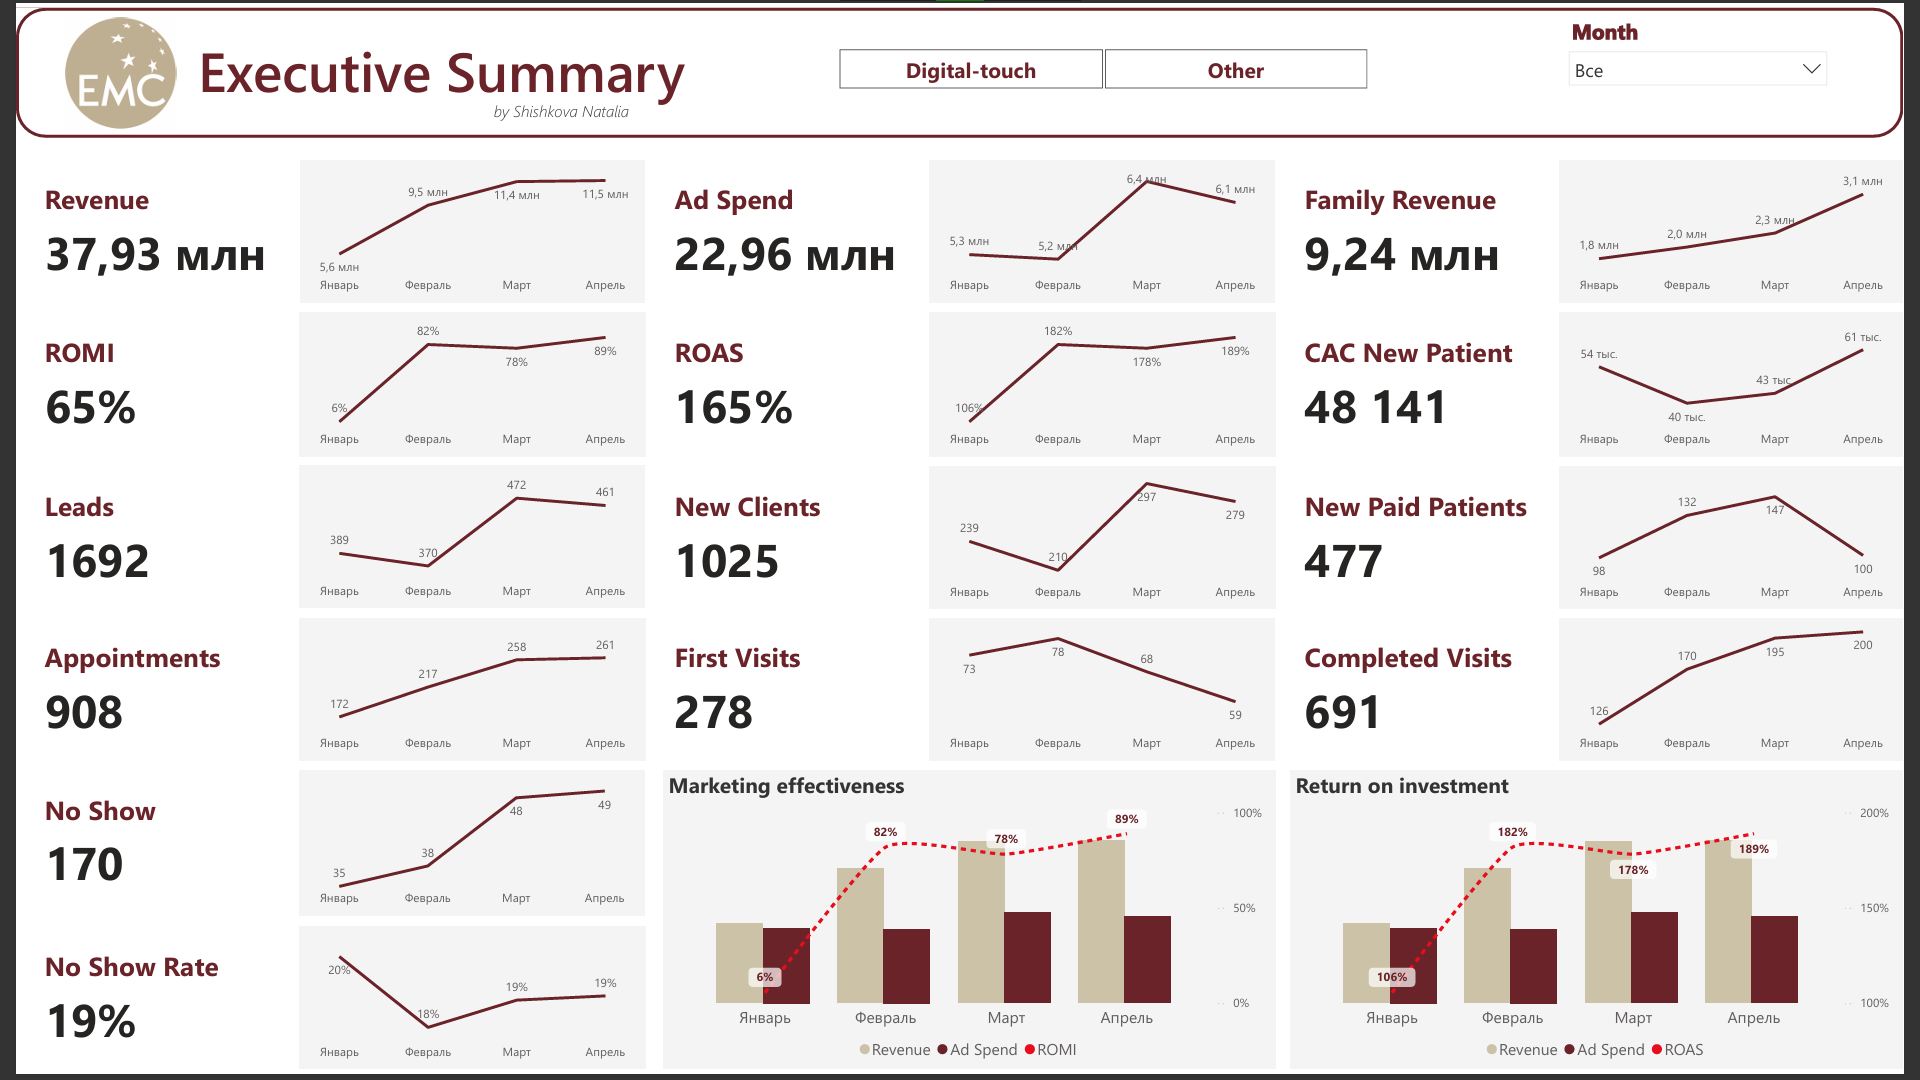

This screenshot's page, from the dashboard's own definition file:
{"tool":"powerbi","page":{"name":"EMC_1","canvas":[1920,1080],"ordinal":0},"visuals":[{"type":"shape","box":[0,0,1920.3,132],"z":0},{"type":"textbox","box":[149.5,4,566.9,122.5],"z":1000},{"type":"textbox","box":[480.7,88.9,160.2,33.7],"z":2000},{"type":"image","box":[49.8,6.7,113.1,118.5],"z":3000},{"type":"slicer","fields":{"Values":["marketing_catalog.traffic_segment"]},"box":[812,35,587.1,53.9],"z":4000},{"type":"slicer","title":"Date","fields":{"Values":["calendar.Месяц"]},"box":[1570.2,4,282.8,118.5],"z":5000},{"type":"lineChart","fields":{"Y":["leads.First Visits"],"Category":["calendar.Месяц"]},"box":[929.2,620.8,352.8,145.4],"z":6000},{"type":"lineChart","fields":{"Category":["calendar.Месяц"],"Y":["revenue.New Paid Patients"]},"box":[1570.2,467.3,350.1,145.4],"z":7000},{"type":"lineChart","fields":{"Category":["calendar.Месяц"],"Y":["revenue.CAC New Patient"]},"box":[1570.2,309.7,350.1,146.8],"z":8000},{"type":"cardVisual","fields":{"Data":["revenue.ROMI"]},"box":[0,309.7,288.2,146.8],"z":9000},{"type":"cardVisual","fields":{"Data":["revenue.ROAS"]},"box":[641,309.7,288.2,146.8],"z":10000},{"type":"lineClusteredColumnComboChart","title":"Return on investment","fields":{"Category":["calendar.Месяц"],"Y":["revenue.Revenue","ad_costs.Ad Spend"],"Y2":["revenue.ROAS"]},"box":[1296.8,775.7,623.5,304.3],"z":11000},{"type":"cardVisual","fields":{"Data":["leads.First Visits"]},"box":[641,620.8,288.2,145.4],"z":12000},{"type":"lineChart","fields":{"Y":["revenue.Revenue"],"Category":["calendar.Месяц"]},"box":[288.2,154.9,352.8,145.4],"z":13000},{"type":"cardVisual","fields":{"Data":["ad_costs.Ad Spend"]},"box":[641,154.9,288.2,145.4],"z":14000},{"type":"lineChart","fields":{"Category":["calendar.Месяц"],"Y":["ad_costs.Ad Spend"]},"box":[929.2,154.9,352.8,145.4],"z":15000},{"type":"cardVisual","fields":{"Data":["leads.Leads"]},"box":[0,467.3,288.2,145.4],"z":16000},{"type":"lineChart","fields":{"Y":["leads.Leads"],"Category":["calendar.Месяц"]},"box":[288.2,465.9,352.8,145.4],"z":17000},{"type":"cardVisual","fields":{"Data":["appointments.Appointments"]},"box":[0,620.8,288.2,145.4],"z":18000},{"type":"lineChart","fields":{"Y":["appointments.Appointments"],"Category":["calendar.Месяц"]},"box":[288.2,620.8,352.8,145.4],"z":19000},{"type":"cardVisual","fields":{"Data":["revenue.Revenue"]},"box":[0,154.9,288.2,145.4],"z":20000},{"type":"cardVisual","fields":{"Data":["revenue.New Paid Patients"]},"box":[1282,467.3,288.2,145.4],"z":21000},{"type":"cardVisual","fields":{"Data":["revenue.CAC New Patient"]},"box":[1282,309.7,288.2,146.8],"z":22000},{"type":"lineChart","fields":{"Category":["calendar.Месяц"],"Y":["revenue.ROMI"]},"box":[288.2,309.7,352.8,146.8],"z":23000},{"type":"lineChart","fields":{"Category":["calendar.Месяц"],"Y":["revenue.ROAS"]},"box":[929.2,309.7,352.8,146.8],"z":24000},{"type":"cardVisual","fields":{"Data":["revenue.Family Revenue"]},"box":[1282,154.9,288.2,145.4],"z":25000},{"type":"lineChart","fields":{"Category":["calendar.Месяц"],"Y":["revenue.Family Revenue"]},"box":[1570.2,154.9,350.1,145.4],"z":26000},{"type":"cardVisual","fields":{"Data":["appointments.No Show"]},"box":[0,775.7,288.2,145.4],"z":27000},{"type":"lineChart","fields":{"Y":["appointments.No Show"],"Category":["calendar.Месяц"]},"box":[288.2,775.7,352,148],"z":28000},{"type":"cardVisual","fields":{"Data":["appointments.Completed Visits"]},"box":[1282,620.8,288.2,145.4],"z":29000},{"type":"lineChart","fields":{"Category":["calendar.Месяц"],"Y":["appointments.Completed Visits"]},"box":[1570.2,620.8,350.1,145.4],"z":30000},{"type":"cardVisual","fields":{"Data":["appointments.No Show Rate"]},"box":[0,934.6,288.2,145.4],"z":31000},{"type":"lineChart","fields":{"Category":["calendar.Месяц"],"Y":["appointments.No Show Rate"]},"box":[288.2,934.6,352.8,145.4],"z":32000},{"type":"cardVisual","fields":{"Data":["leads.New Leads"]},"box":[641,467.3,288.2,145.4],"z":33000},{"type":"lineChart","fields":{"Category":["calendar.Месяц"],"Y":["leads.New Leads"]},"box":[929.2,467.3,352.8,145.4],"z":34000},{"type":"lineClusteredColumnComboChart","title":"Marketing effectiveness","fields":{"Y":["revenue.Revenue","ad_costs.Ad Spend"],"Y2":["revenue.ROMI"],"Category":["calendar.Месяц"]},"box":[658.5,775.7,623.5,304.3],"z":35000}]}

Visuals, with their boxes in screenshot pixels (x1, y1, x2, y2), scaled from the page's 1920x1080 canvas onto the 1920x1080 screenshot:
shape: 0 0 1919 132
textbox: 150 4 716 126
textbox: 481 89 641 123
image: 50 7 163 125
slicer - marketing_catalog.traffic_segment: 812 35 1399 89
"Date" slicer: 1570 4 1853 122
lineChart - leads.First Visits x calendar.Месяц: 929 621 1282 766
lineChart - calendar.Месяц x revenue.New Paid Patients: 1570 467 1919 613
lineChart - calendar.Месяц x revenue.CAC New Patient: 1570 310 1919 456
cardVisual - revenue.ROMI: 0 310 288 456
cardVisual - revenue.ROAS: 641 310 929 456
"Return on investment" lineClusteredColumnComboChart: 1297 776 1919 1079
cardVisual - leads.First Visits: 641 621 929 766
lineChart - revenue.Revenue x calendar.Месяц: 288 155 641 300
cardVisual - ad_costs.Ad Spend: 641 155 929 300
lineChart - calendar.Месяц x ad_costs.Ad Spend: 929 155 1282 300
cardVisual - leads.Leads: 0 467 288 613
lineChart - leads.Leads x calendar.Месяц: 288 466 641 611
cardVisual - appointments.Appointments: 0 621 288 766
lineChart - appointments.Appointments x calendar.Месяц: 288 621 641 766
cardVisual - revenue.Revenue: 0 155 288 300
cardVisual - revenue.New Paid Patients: 1282 467 1570 613
cardVisual - revenue.CAC New Patient: 1282 310 1570 456
lineChart - calendar.Месяц x revenue.ROMI: 288 310 641 456
lineChart - calendar.Месяц x revenue.ROAS: 929 310 1282 456
cardVisual - revenue.Family Revenue: 1282 155 1570 300
lineChart - calendar.Месяц x revenue.Family Revenue: 1570 155 1919 300
cardVisual - appointments.No Show: 0 776 288 921
lineChart - appointments.No Show x calendar.Месяц: 288 776 640 924
cardVisual - appointments.Completed Visits: 1282 621 1570 766
lineChart - calendar.Месяц x appointments.Completed Visits: 1570 621 1919 766
cardVisual - appointments.No Show Rate: 0 935 288 1079
lineChart - calendar.Месяц x appointments.No Show Rate: 288 935 641 1079
cardVisual - leads.New Leads: 641 467 929 613
lineChart - calendar.Месяц x leads.New Leads: 929 467 1282 613
"Marketing effectiveness" lineClusteredColumnComboChart: 658 776 1282 1079
